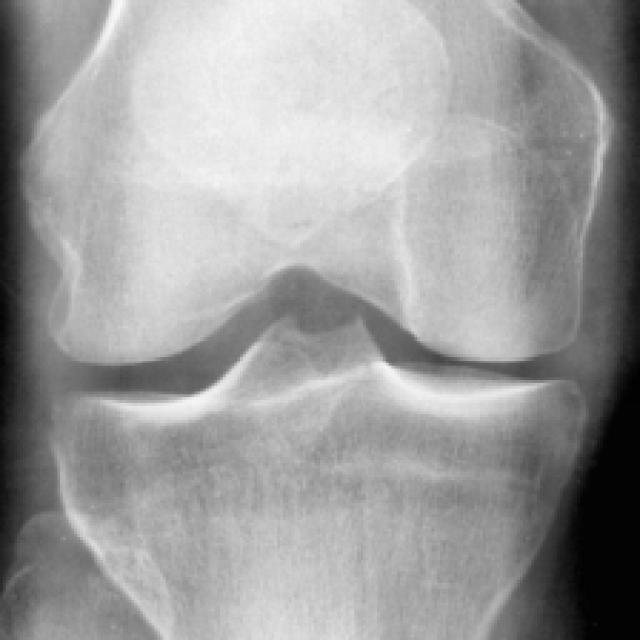femur: (26, 0, 603, 367)
tibia: (48, 315, 587, 640)
